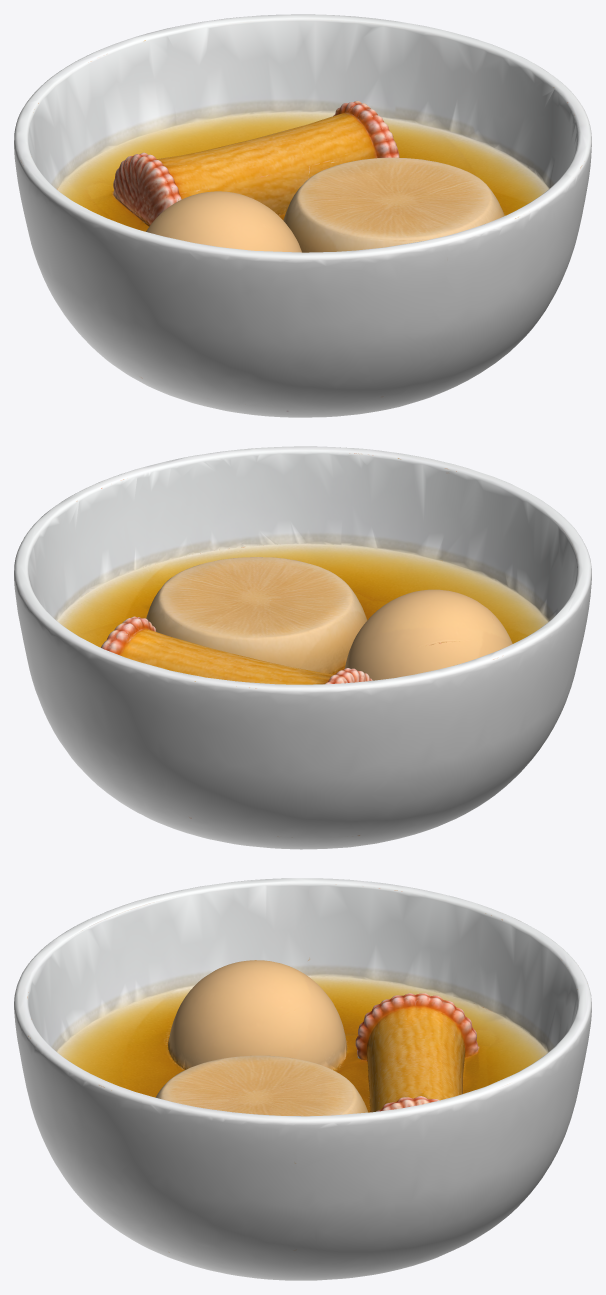
File: plated-oden.glb
The picture shows the model from 3 angles, top to bottom: view 1: azimuth 30°, elevation 25°; view 2: azimuth 150°, elevation 25°; view 3: azimuth 270°, elevation 25°; orthographic projection.
Visible parts, largest first — view 1: mesh; view 2: mesh; view 3: mesh.
Boxes of the visible parts, x1,y1,x2,y2 form: mesh: (14,14,591,417); mesh: (14,446,591,849); mesh: (14,878,591,1280).
Bounding box in the file's own units: 2 × 0.8773 × 2.
1 material, 1 textured.
